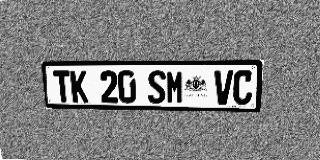0: (118, 70, 136, 103)
2: (100, 70, 118, 103)
C: (232, 70, 253, 105)
K: (70, 70, 89, 103)
M: (166, 70, 184, 104)
S: (148, 70, 166, 104)
T: (53, 70, 72, 102)
V: (213, 70, 233, 105)
